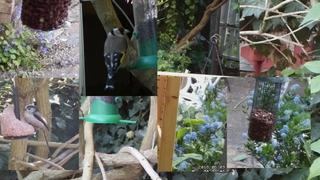goldfinch: (103, 27, 131, 90)
long tailed tit: (23, 104, 52, 160)
